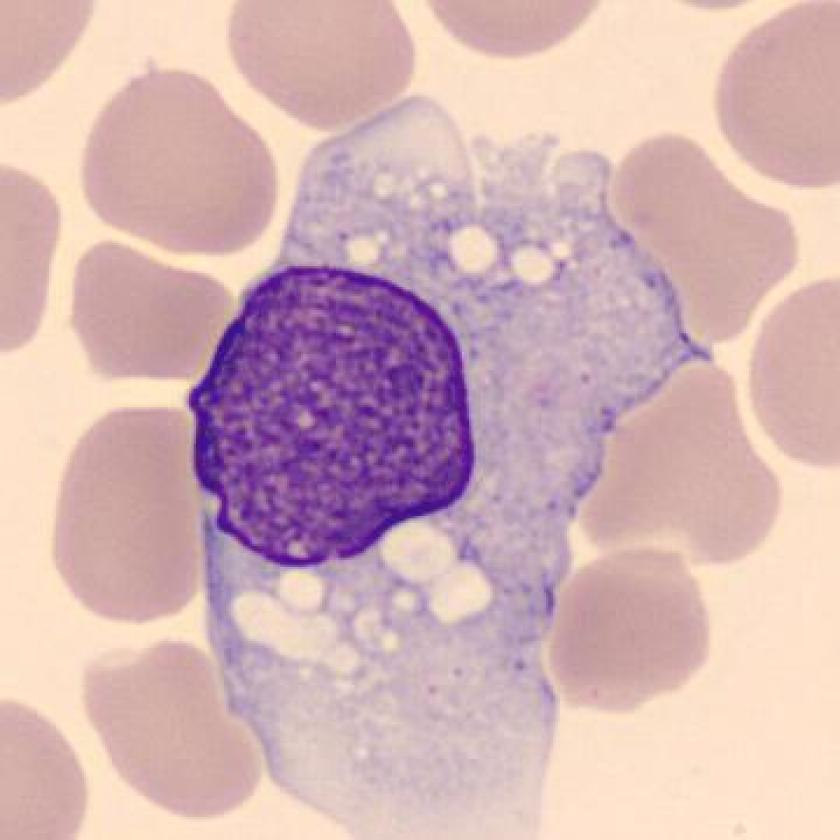monocyte: (174, 82, 724, 829)
